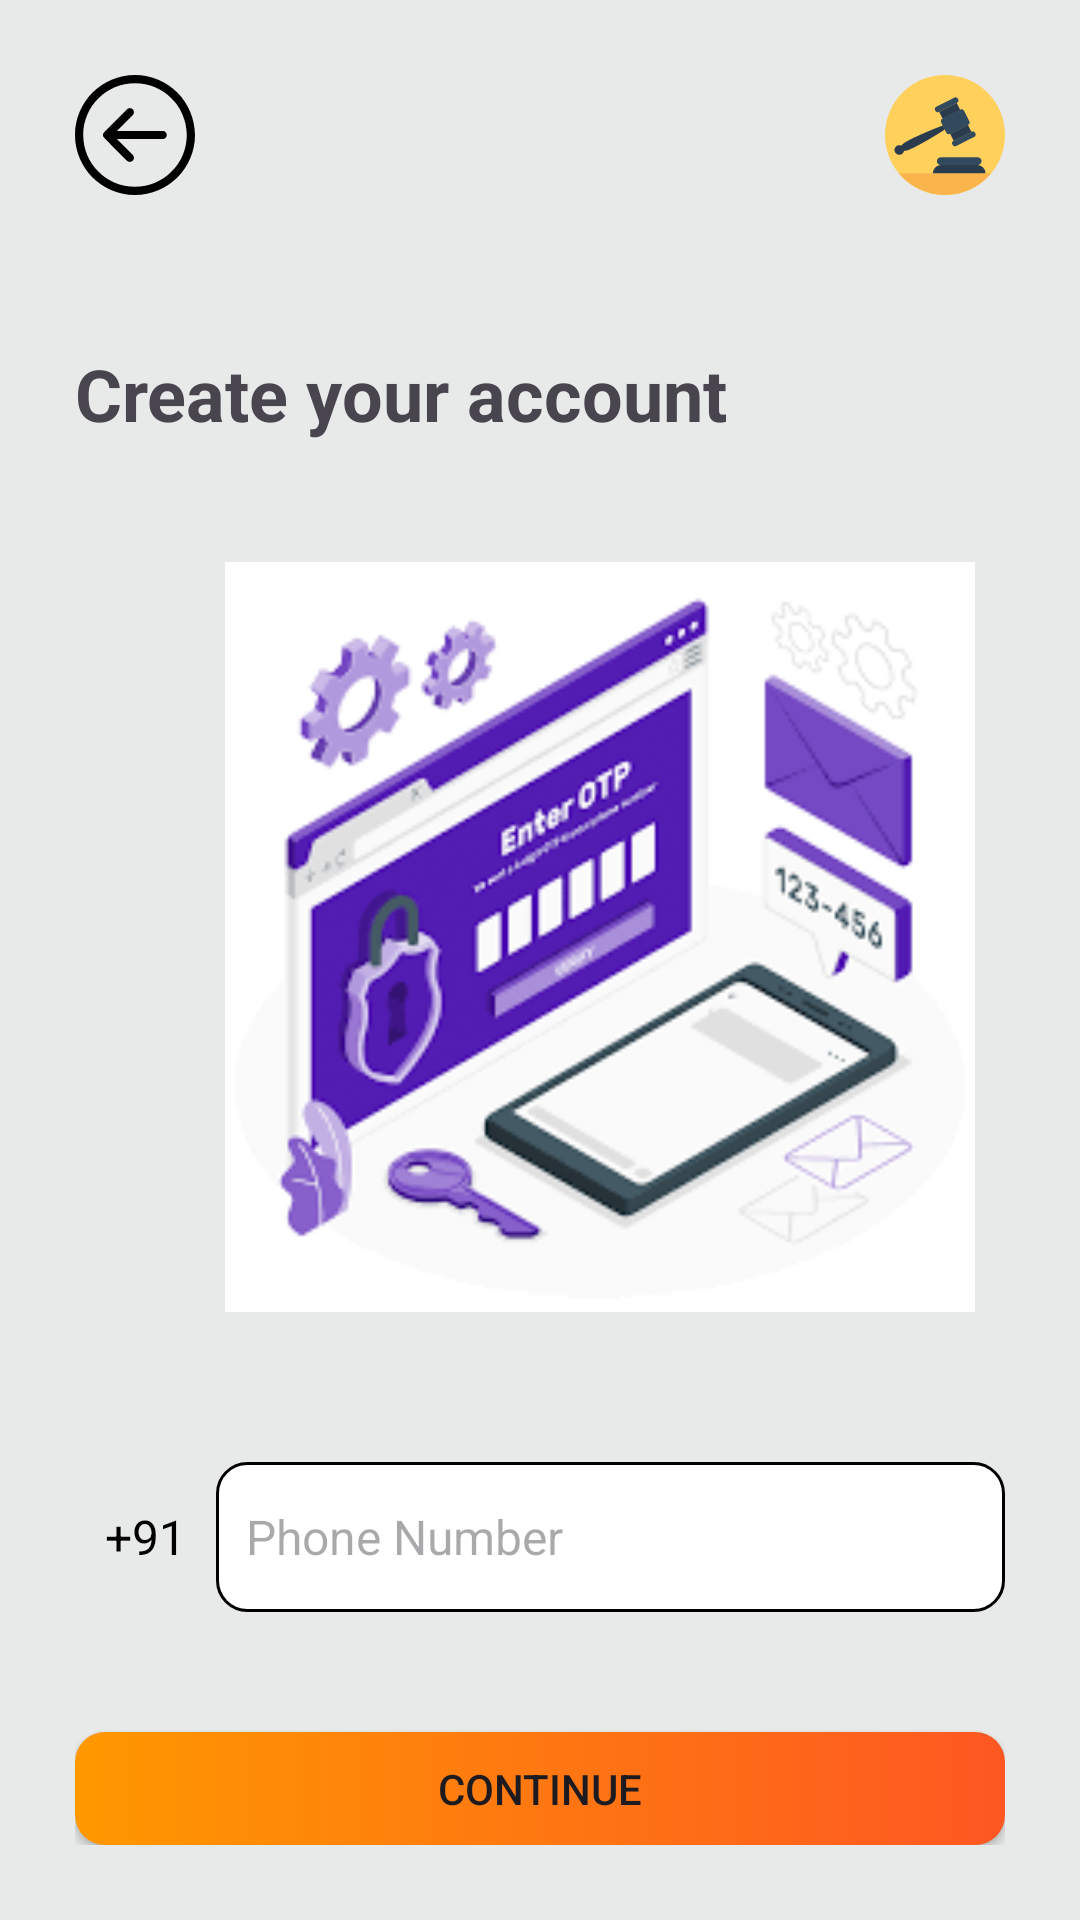

Where to tap for icons on this 1080*1920 app screen, as point (x, y):
back: point (135, 135)
